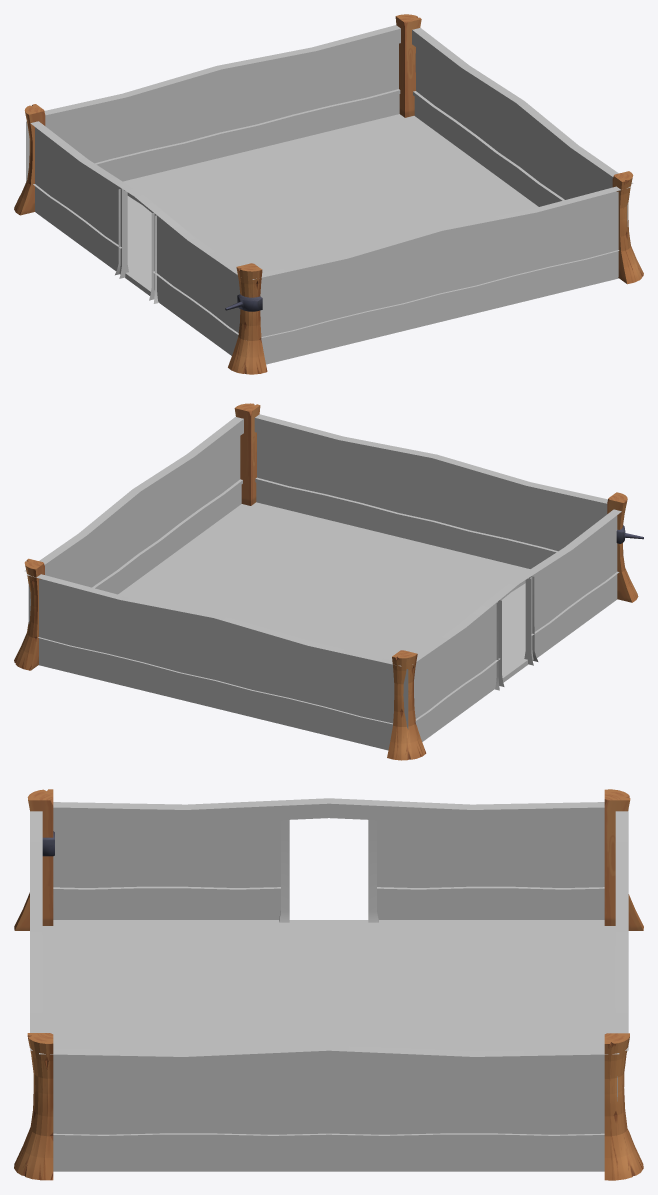
The model's file is first floor_1.FBX.
3 renders of one model, top to bottom at view 1: azimuth 30°, elevation 25°; view 2: azimuth 150°, elevation 25°; view 3: azimuth 270°, elevation 25°, orthographic. The views are drawn at different scales.
Parts seen in each view (by area): view 1: floor, wall4, wall2, wall1, wall3, pillar1, pillar4, pillar3, pillar2; view 2: floor, wall2, wall4, wall1, wall3, pillar2, pillar4, pillar3, pillar1; view 3: floor, wall3, wall1, pillar4, pillar3, wall2, wall4, pillar1, pillar2.
Boxes of the visible parts, x1=… form: floor: x1=35, y1=114, x2=618, y2=364; wall4: x1=252, y1=186, x2=630, y2=363; wall2: x1=26, y1=25, x2=400, y2=182; wall1: x1=30, y1=121, x2=240, y2=355; wall3: x1=412, y1=28, x2=633, y2=206; pillar1: x1=225, y1=263, x2=267, y2=374; pillar4: x1=612, y1=171, x2=643, y2=284; pillar3: x1=395, y1=14, x2=421, y2=117; pillar2: x1=14, y1=104, x2=45, y2=215; floor: x1=38, y1=502, x2=616, y2=750; wall2: x1=27, y1=574, x2=408, y2=749; wall4: x1=254, y1=414, x2=607, y2=568; wall1: x1=412, y1=509, x2=625, y2=741; wall3: x1=24, y1=416, x2=243, y2=594; pillar2: x1=387, y1=650, x2=426, y2=760; pillar4: x1=234, y1=403, x2=260, y2=505; pillar3: x1=14, y1=558, x2=44, y2=670; pillar1: x1=607, y1=492, x2=643, y2=602; floor: x1=42, y1=920, x2=615, y2=1171; wall3: x1=39, y1=1045, x2=619, y2=1170; wall1: x1=53, y1=798, x2=604, y2=922; pillar4: x1=14, y1=1033, x2=53, y2=1180; pillar3: x1=604, y1=1033, x2=643, y2=1180; wall2: x1=615, y1=809, x2=628, y2=1050; wall4: x1=30, y1=811, x2=42, y2=1050; pillar1: x1=14, y1=789, x2=54, y2=930; pillar2: x1=604, y1=789, x2=643, y2=930.
Size of the model in its own units: 2207 by 504 by 2172.
